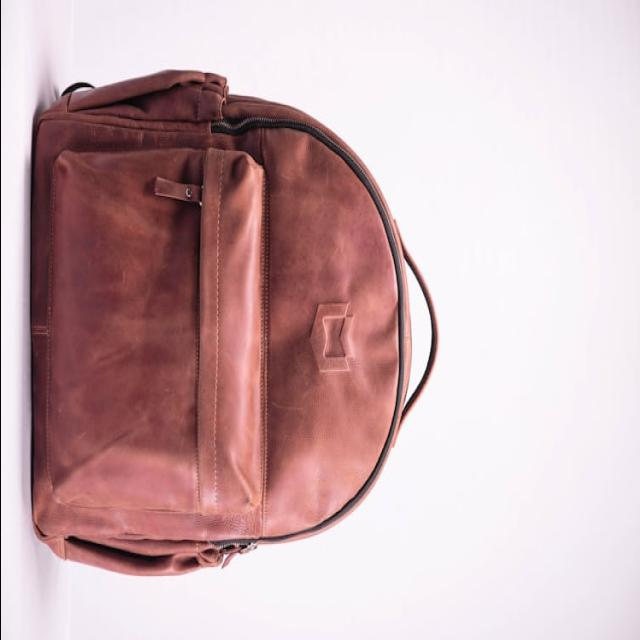backpack: (30, 69, 440, 579)
